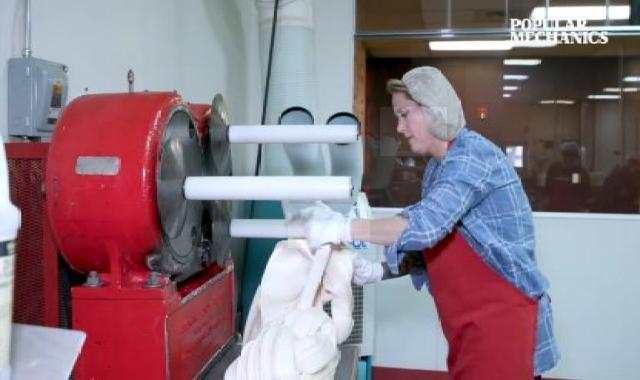apron: (289, 205, 371, 249), (341, 255, 404, 284)
gloves: (388, 65, 466, 147)
no_hairnet: (380, 107, 447, 156)
